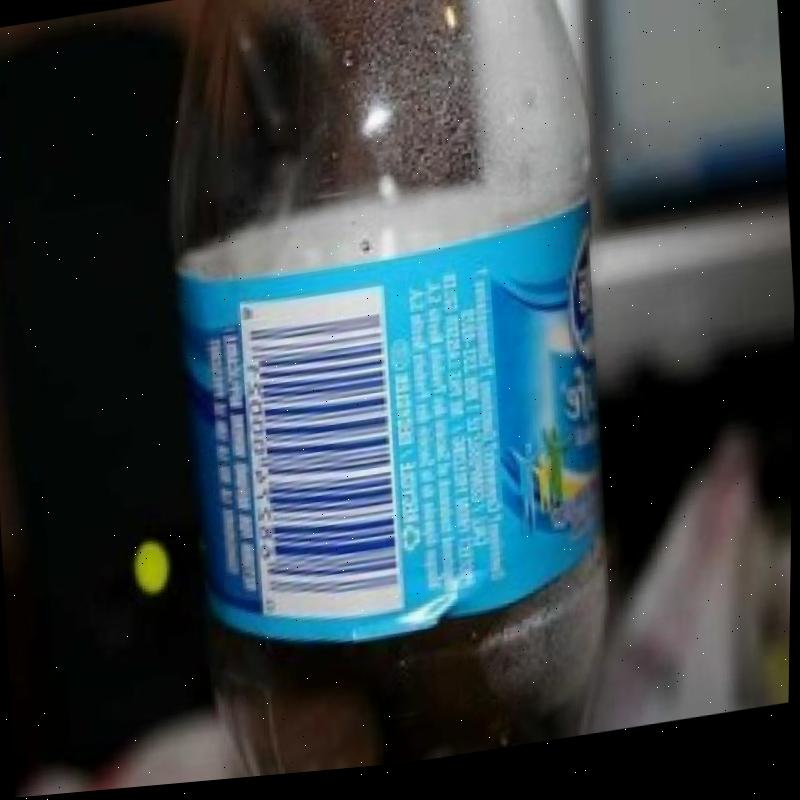botella: (147, 0, 642, 789)
